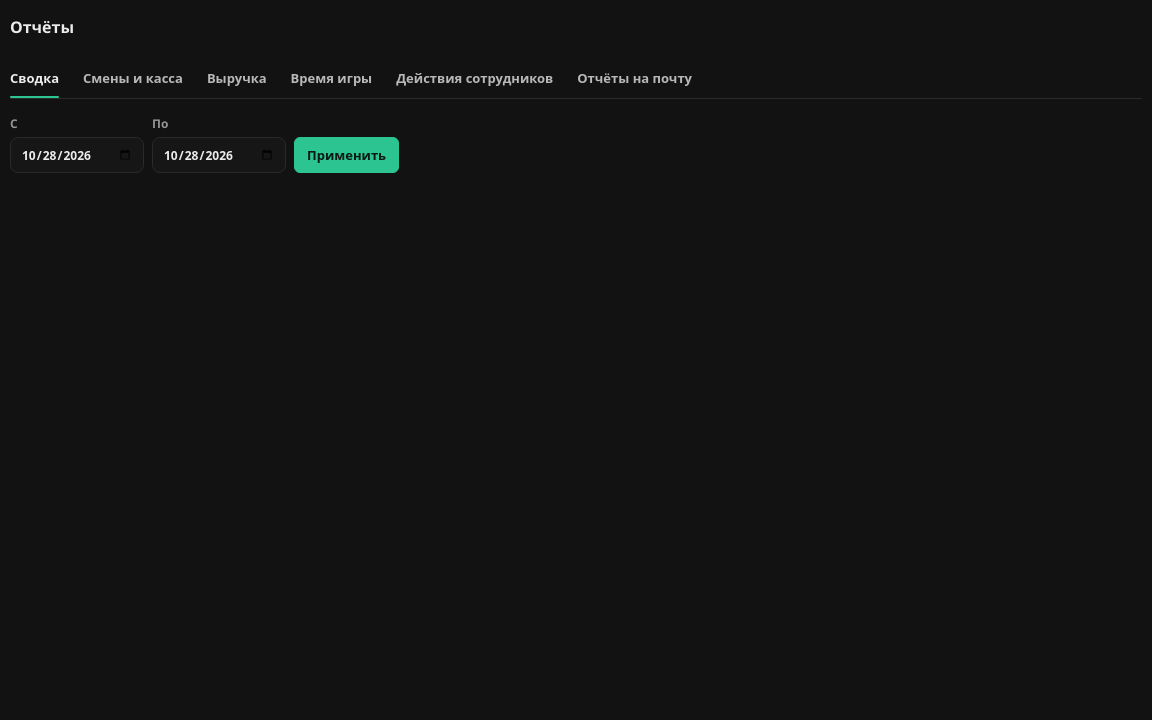
Test: ReportsWorkspace › switches between the three report panels
This screenshot has width=1152, height=720.
Click the tab "Смены и касса".
click(133, 78)  # box [83,58,183,98]
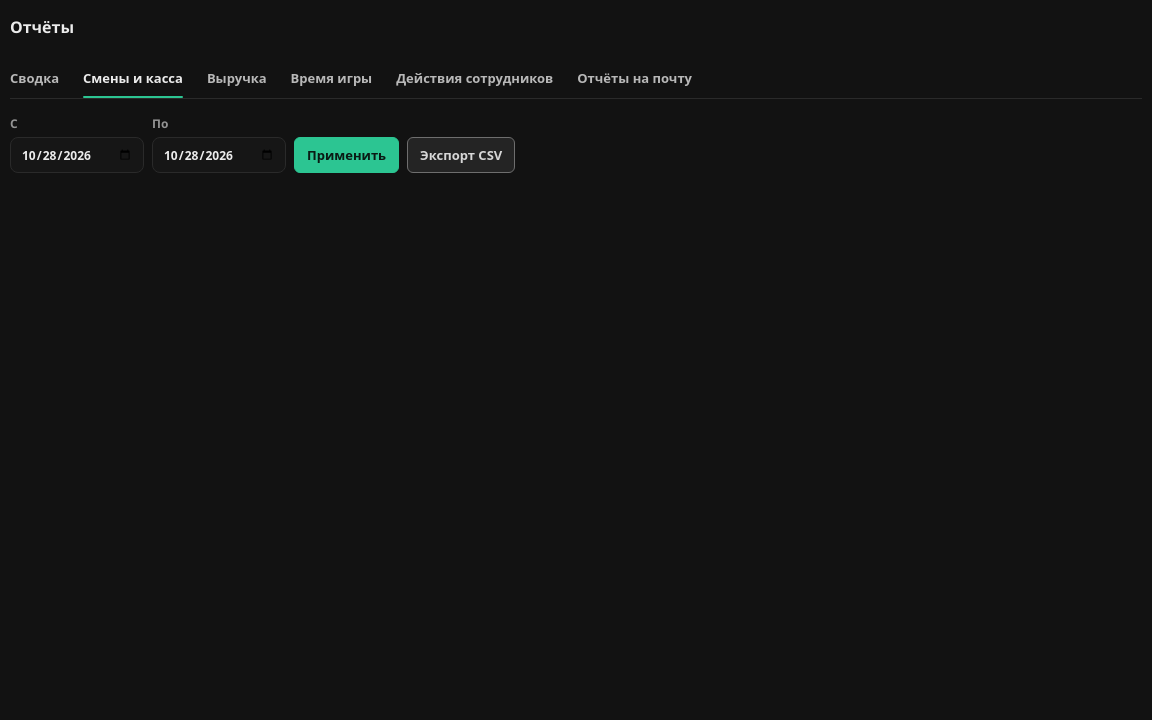
Expected: the panel named "Смены и касса" is shown, [10,115,515,173]
Click the tab "Выручка".
click(237, 78)  # box [207,58,267,98]
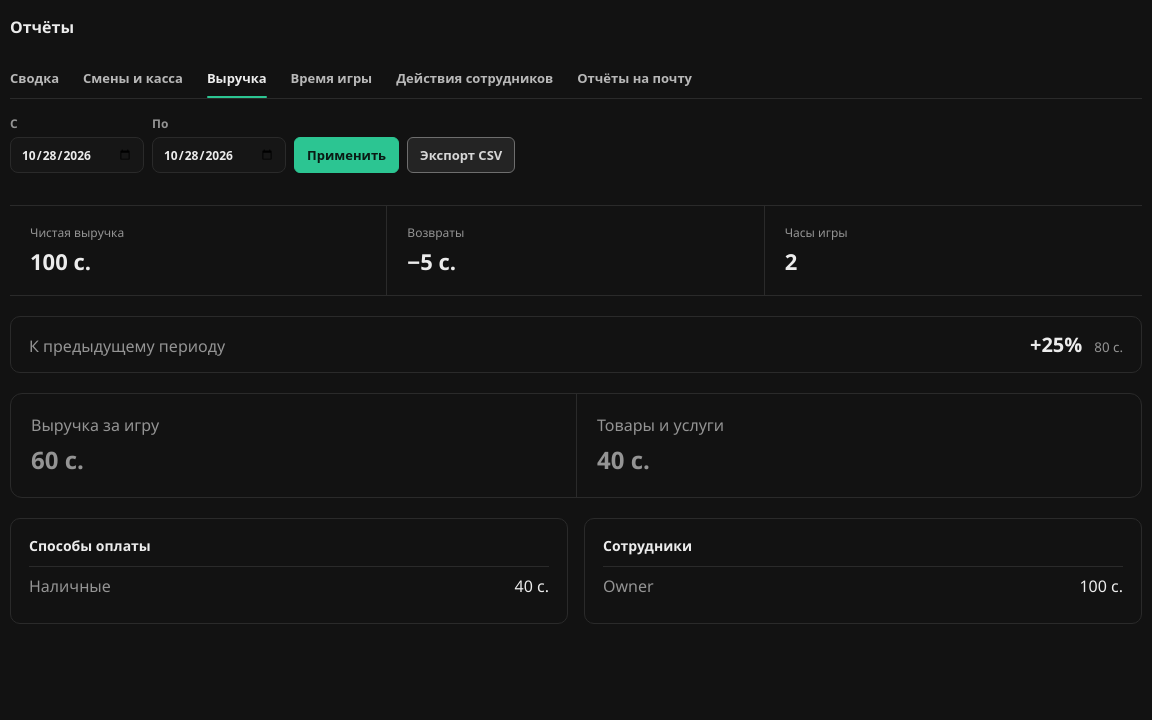
Expected: the panel "выручка" is shown
Expected: the text "Часы игры" is shown, [785,224,848,241]
Expected: the text "+25%" is shown, [1030,331,1082,358]
